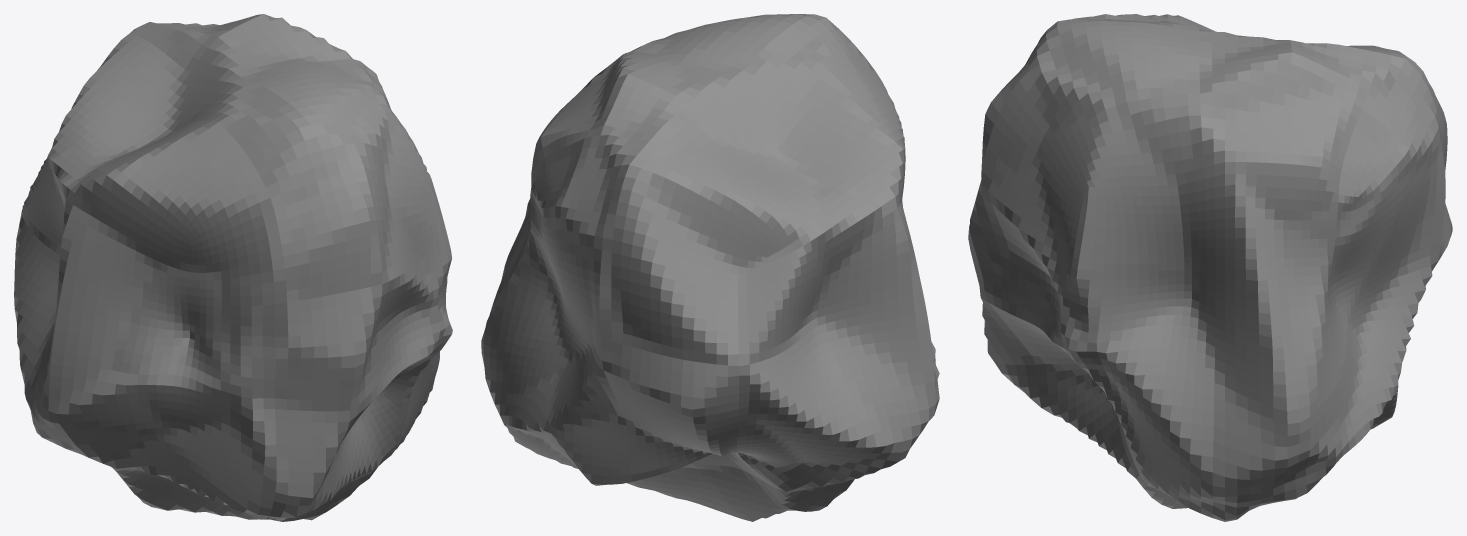
The model's file is stone3.fbx.
3 views of the same model, side by side, from view 1: azimuth 30°, elevation 25°; view 2: azimuth 150°, elevation 25°; view 3: azimuth 270°, elevation 25° (orthographic).
Parts seen in each view (by area): view 1: Cube.002; view 2: Cube.002; view 3: Cube.002.
Boxes of the visible parts, x1,y1,x2,y2 form: Cube.002: (14, 14, 452, 521); Cube.002: (481, 14, 939, 521); Cube.002: (968, 14, 1452, 521).
Bounding box in the file's own units: 136 × 147 × 140.
Materials: 1 (1 with a texture image).
